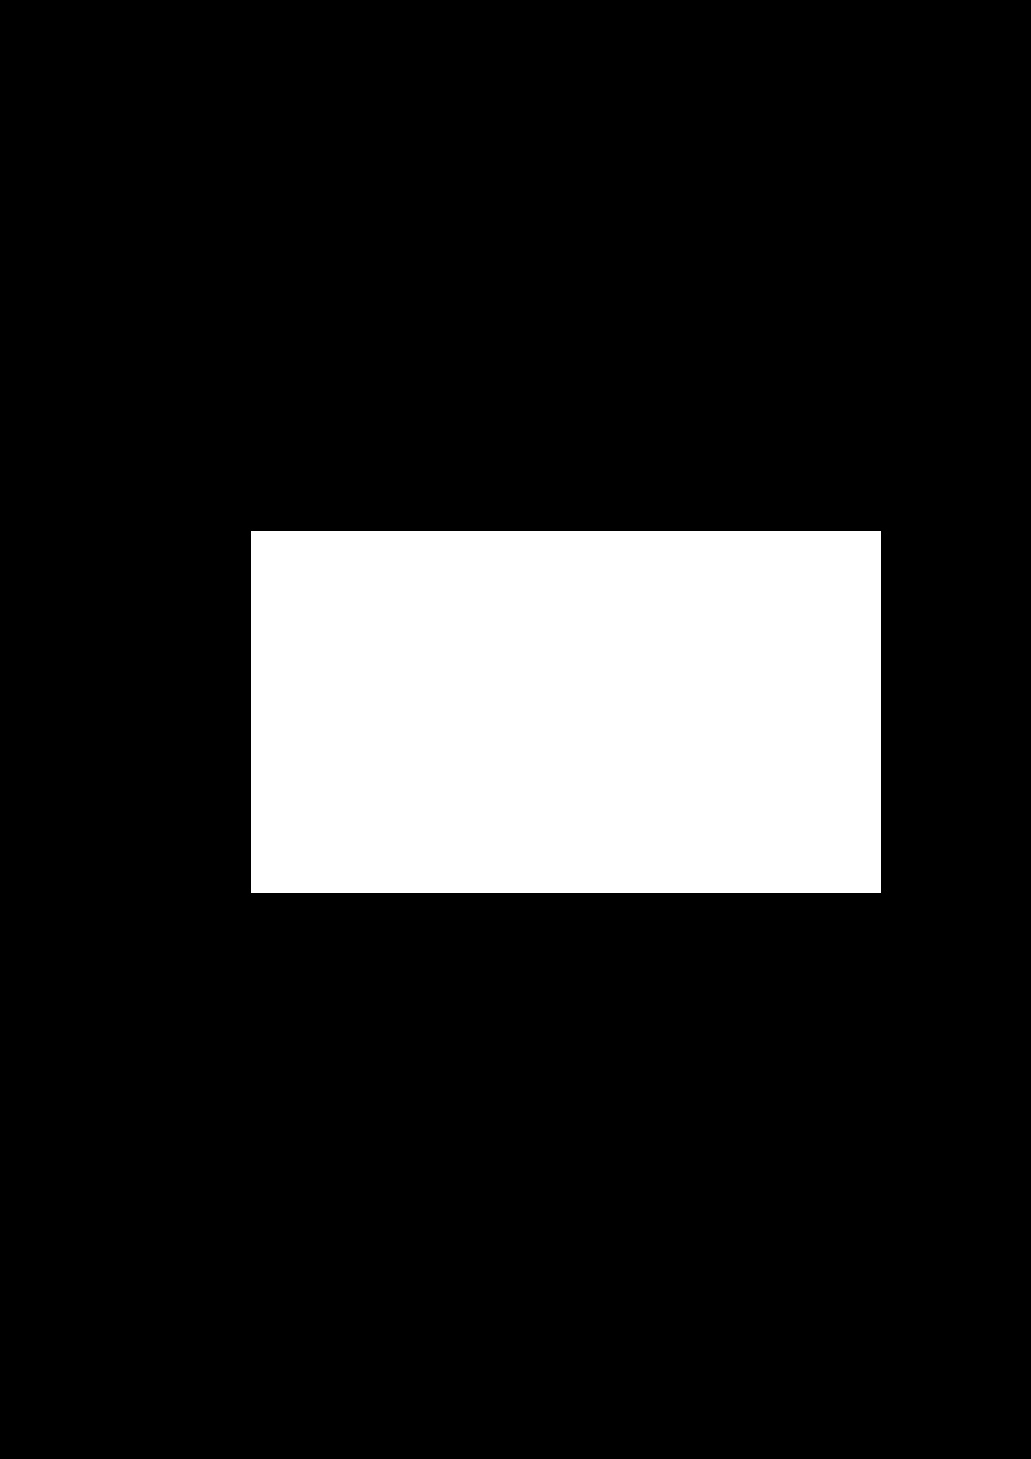table: (251, 531, 880, 892)
